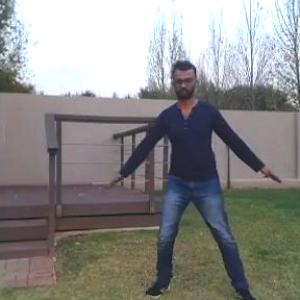land: (132, 55, 300, 299)
